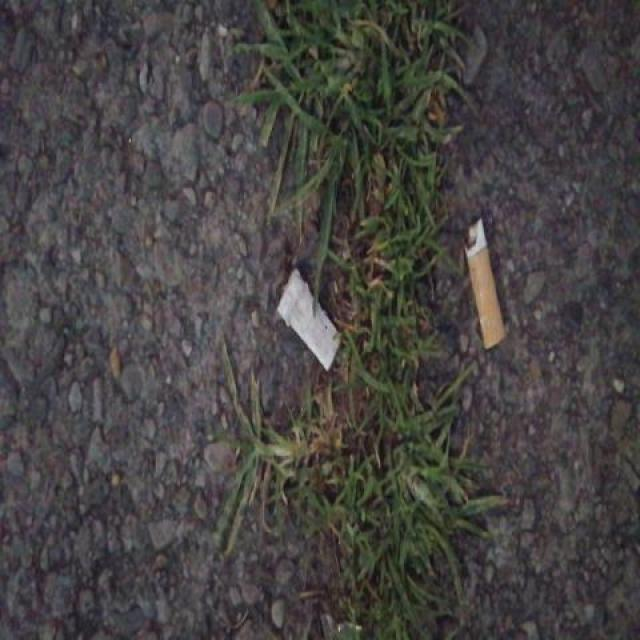non-organic waste: (271, 262, 348, 375), (458, 215, 511, 353)
